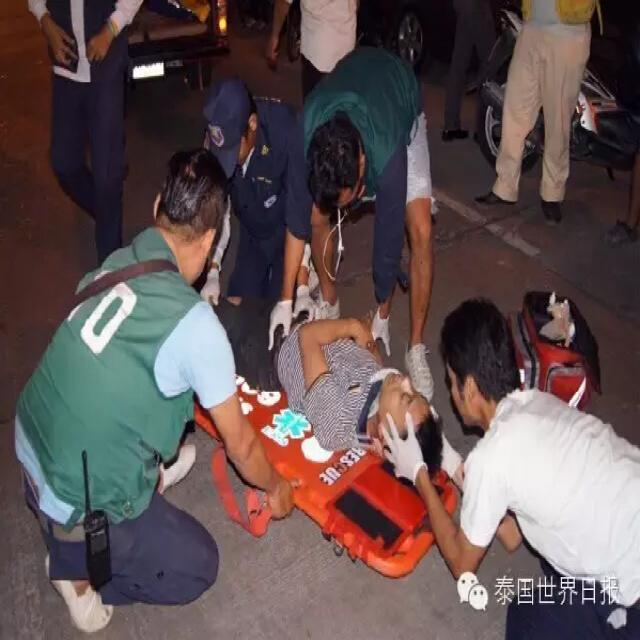fall: (259, 303, 441, 466)
